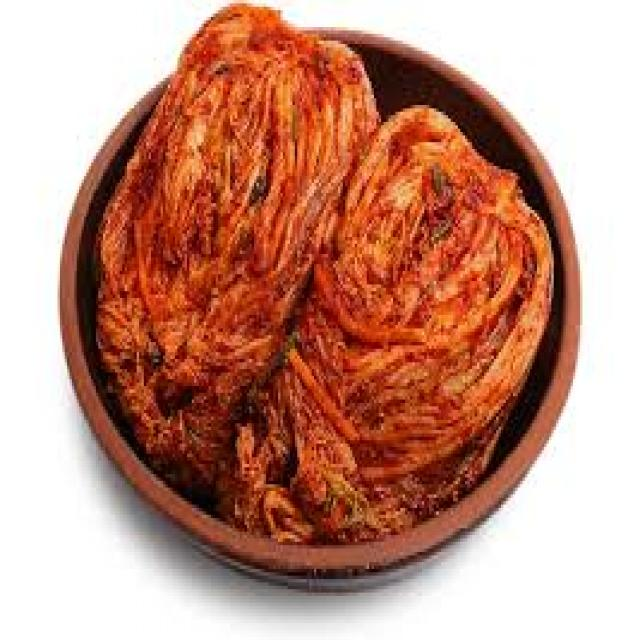kimchi: (184, 102, 422, 440)
